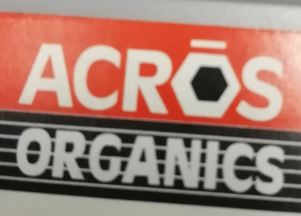AcrosOrganics: (17, 38, 286, 198)
